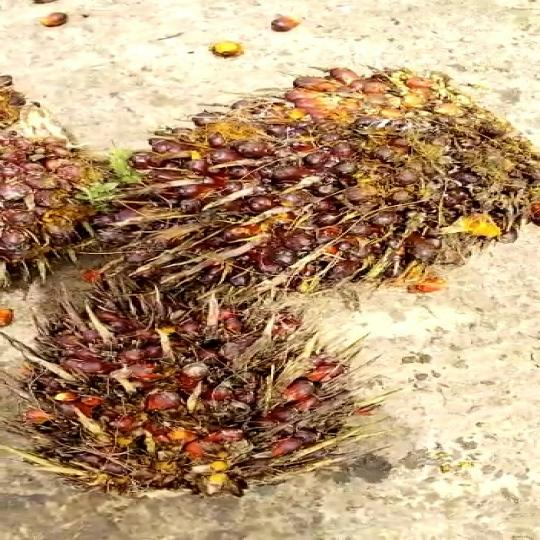masak: (81, 60, 540, 304), (1, 251, 394, 509)
